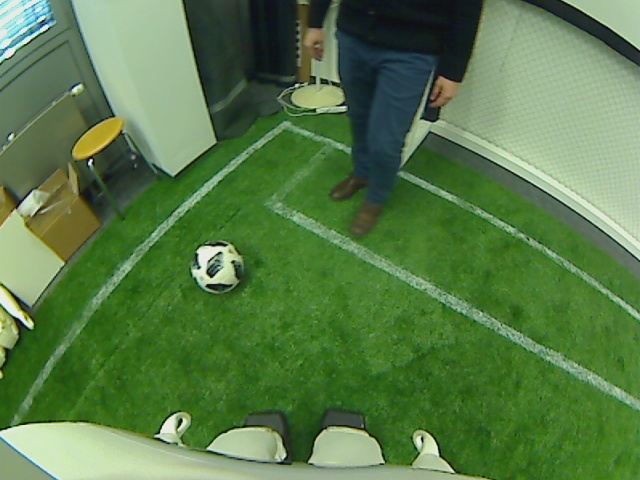ball: (189, 240, 245, 294)
